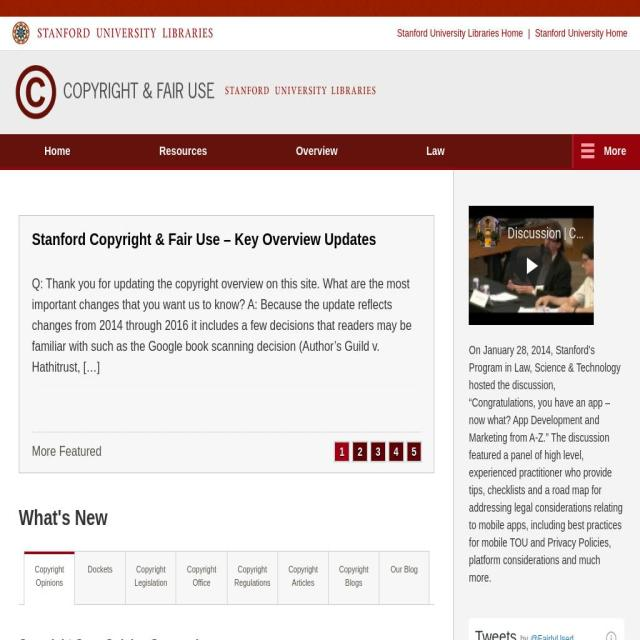button: (16, 65, 376, 119), (114, 134, 252, 168), (252, 134, 382, 168), (0, 134, 115, 168), (382, 134, 489, 168), (24, 552, 75, 606), (75, 552, 126, 606), (176, 552, 227, 606), (126, 552, 176, 606), (227, 552, 277, 606), (278, 552, 328, 606), (329, 552, 379, 606), (380, 552, 430, 606), (574, 134, 640, 168), (334, 442, 350, 462), (370, 442, 386, 462), (388, 442, 404, 462), (406, 442, 422, 462), (353, 442, 368, 462)
heading: (19, 215, 435, 533), (16, 65, 376, 119), (32, 230, 376, 248), (19, 636, 211, 640)
iframe: (469, 206, 594, 325)
image: (12, 22, 212, 44)
link: (397, 27, 532, 39), (534, 27, 628, 39), (32, 443, 102, 459)
text: (32, 274, 422, 378), (469, 342, 624, 586)
